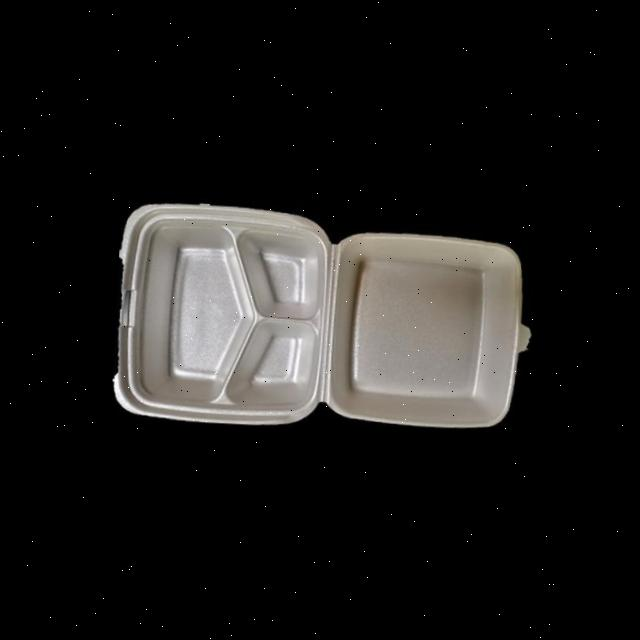styrofoam: (108, 197, 538, 440)
